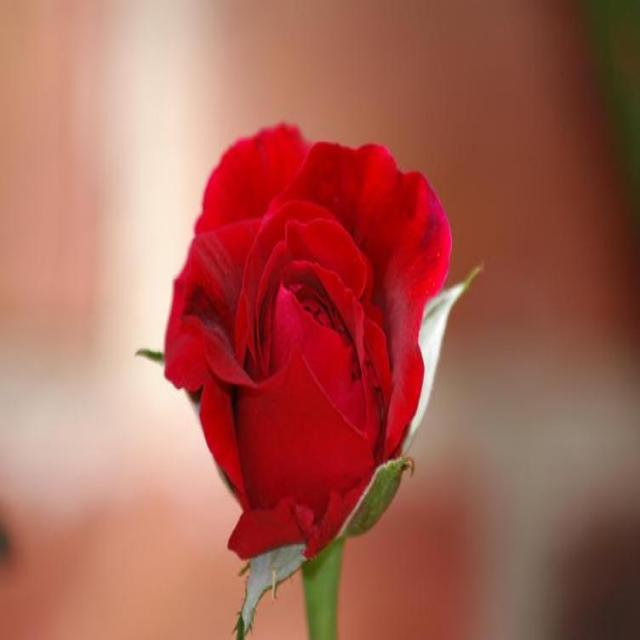rose: (115, 101, 485, 600)
